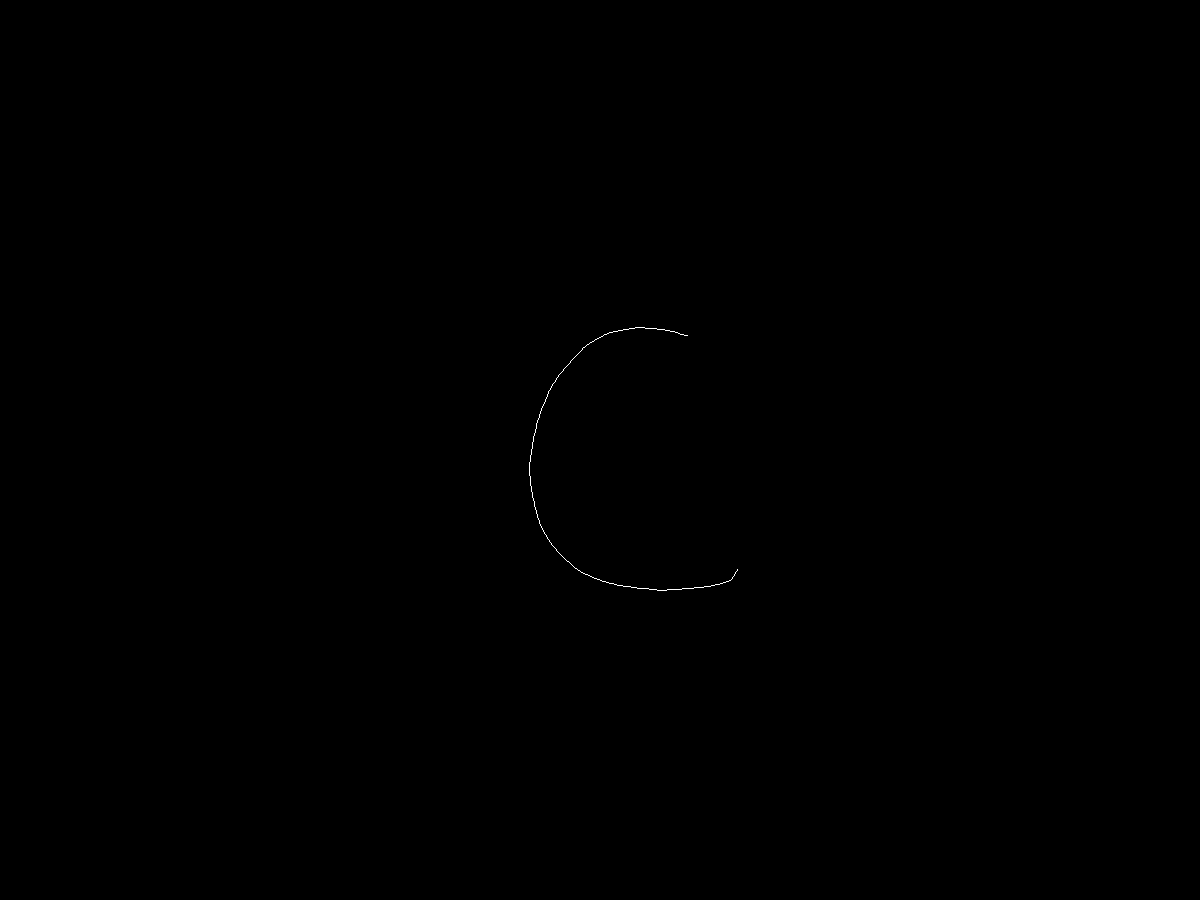dian1: (677, 327, 697, 348)
dian2: (731, 554, 747, 576)
